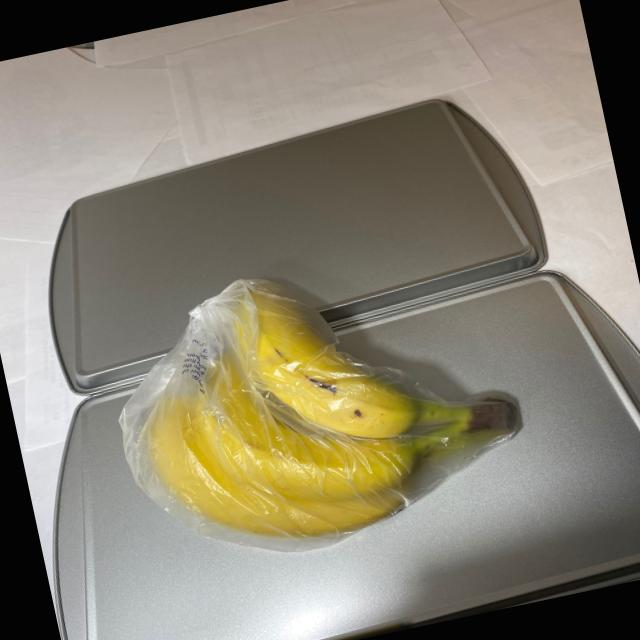banana: (98, 220, 541, 584)
